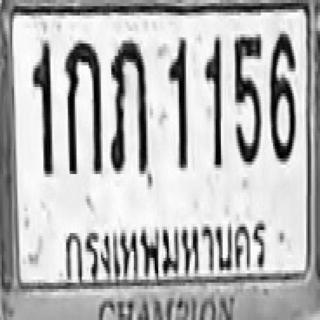A01: (64, 40, 101, 174)
A32: (110, 37, 150, 174)
N01: (31, 39, 52, 176), (203, 34, 223, 168), (167, 36, 186, 169)
N05: (233, 34, 261, 165)
N06: (270, 31, 296, 162)
P04: (62, 209, 271, 287)
